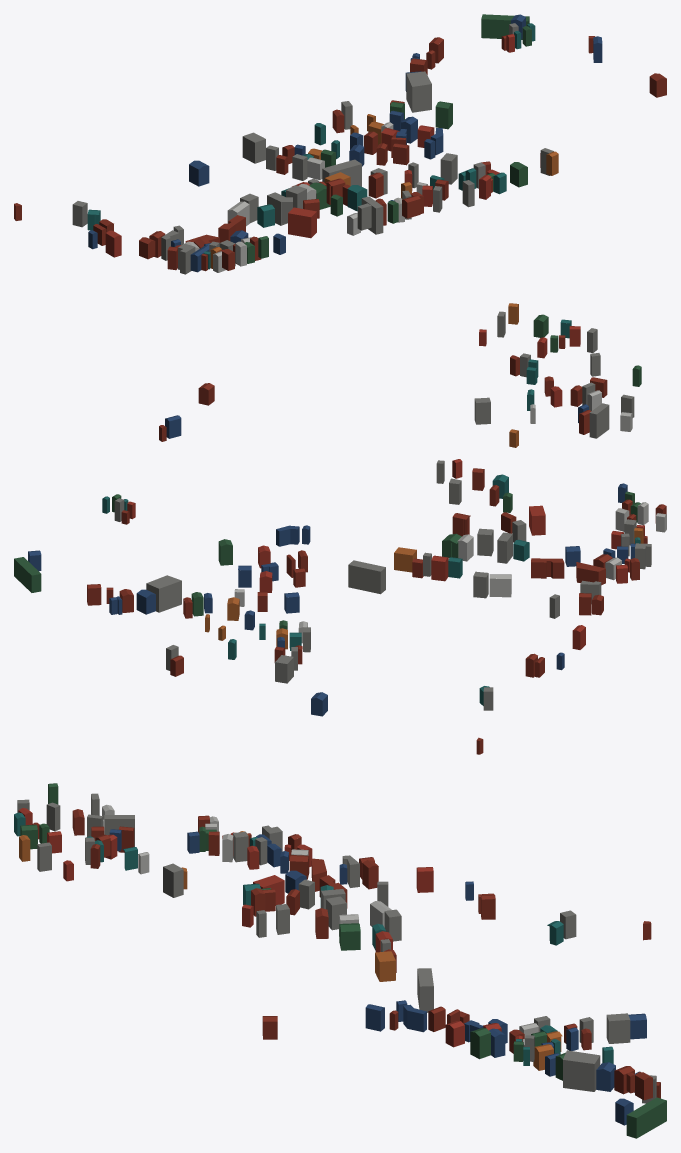
File: near-16-54725-29729.388e0786.glb
The picture shows the model from 3 angles, top to bottom: view 1: azimuth 30°, elevation 25°; view 2: azimuth 150°, elevation 25°; view 3: azimuth 270°, elevation 25°; orthographic projection. The views are drawn at different scales.
Size of the model in its own units: 592 by 237 by 593.
